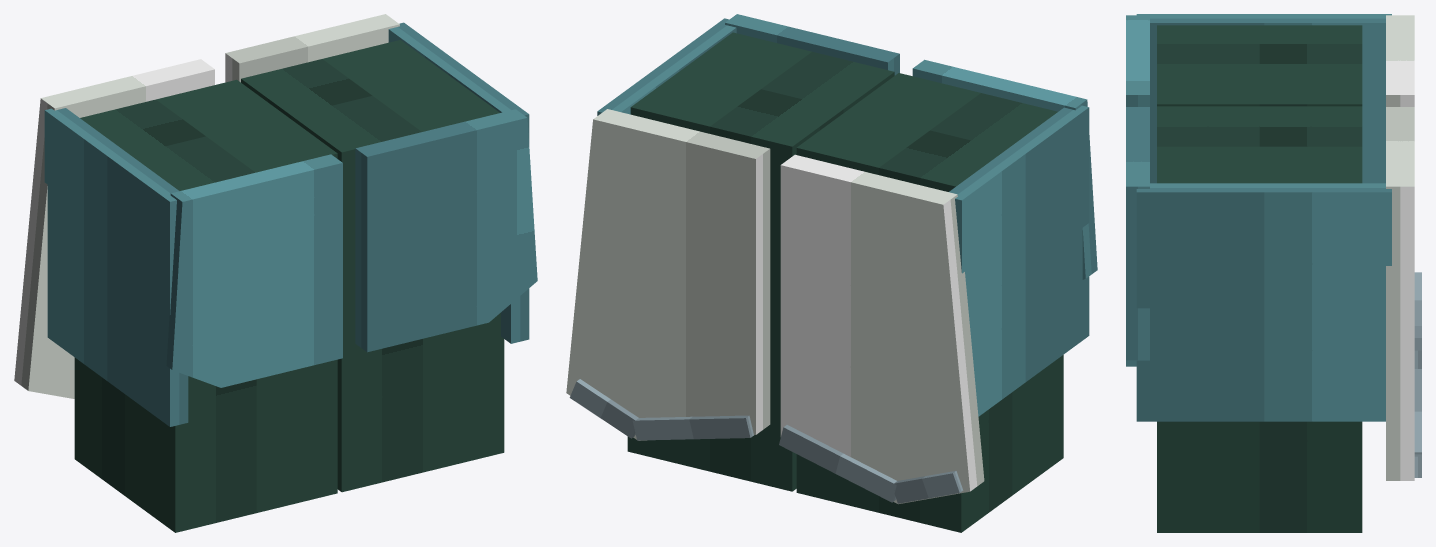
Rendered from zhuji_baiqing_lingyun_leggings.obj.
3 renders of one model, left to right at view 1: azimuth 30°, elevation 25°; view 2: azimuth 150°, elevation 25°; view 3: azimuth 270°, elevation 25°, orthographic.
Parts seen in each view (by area): view 1: cloud_trouser_-1, cloud_trouser_1, cloud_front_hem_1, cloud_front_hem_-1, cloud_side_hem_-1, cloud_back_hem_-1, cloud_back_hem_1, cloud_side_hem_1; view 2: cloud_back_hem_-1, cloud_back_hem_1, cloud_trouser_-1, cloud_side_hem_-1, cloud_trouser_1, cloud_front_hem_-1, cloud_front_hem_1, cloud_back_edge_-1_0, cloud_back_edge_1_0, cloud_side_hem_1, cloud_back_edge_1_1, cloud_back_edge_-1_1; view 3: cloud_side_hem_1, cloud_trouser_1, cloud_trouser_-1, cloud_back_hem_1, cloud_side_hem_-1, cloud_front_hem_1, cloud_back_hem_-1, cloud_front_hem_-1, cloud_back_edge_1_0, cloud_back_edge_-1_1.
Part boxes in pixels (<box>): cloud_trouser_-1: <box>74,79,337,532</box>; cloud_trouser_1: <box>241,40,504,492</box>; cloud_front_hem_1: <box>355,109,537,352</box>; cloud_front_hem_-1: <box>160,154,342,387</box>; cloud_side_hem_-1: <box>44,108,188,426</box>; cloud_back_hem_-1: <box>14,59,214,398</box>; cloud_back_hem_1: <box>225,14,399,82</box>; cloud_side_hem_1: <box>388,22,529,343</box>; cloud_back_hem_-1: <box>780,154,984,504</box>; cloud_back_hem_1: <box>566,109,770,440</box>; cloud_trouser_-1: <box>796,73,1063,532</box>; cloud_side_hem_-1: <box>949,105,1089,416</box>; cloud_trouser_1: <box>627,32,894,491</box>; cloud_front_hem_-1: <box>912,59,1097,279</box>; cloud_front_hem_1: <box>725,14,899,75</box>; cloud_back_edge_-1_0: <box>779,425,896,502</box>; cloud_back_edge_1_0: <box>632,415,753,440</box>; cloud_side_hem_1: <box>597,18,736,115</box>; cloud_back_edge_1_1: <box>569,379,638,438</box>; cloud_back_edge_-1_1: <box>894,471,963,503</box>; cloud_side_hem_1: <box>1136,183,1391,421</box>; cloud_trouser_1: <box>1157,106,1362,532</box>; cloud_trouser_-1: <box>1157,25,1362,106</box>; cloud_back_hem_1: <box>1386,107,1414,480</box>; cloud_side_hem_-1: <box>1136,14,1391,183</box>; cloud_front_hem_1: <box>1126,107,1149,366</box>; cloud_back_hem_-1: <box>1386,15,1414,106</box>; cloud_front_hem_-1: <box>1126,15,1149,106</box>; cloud_back_edge_1_0: <box>1414,369,1421,452</box>; cloud_back_edge_-1_1: <box>1414,272,1421,325</box>.
Bounding box in the file's own units: 0.6125 × 0.5062 × 0.3875.
